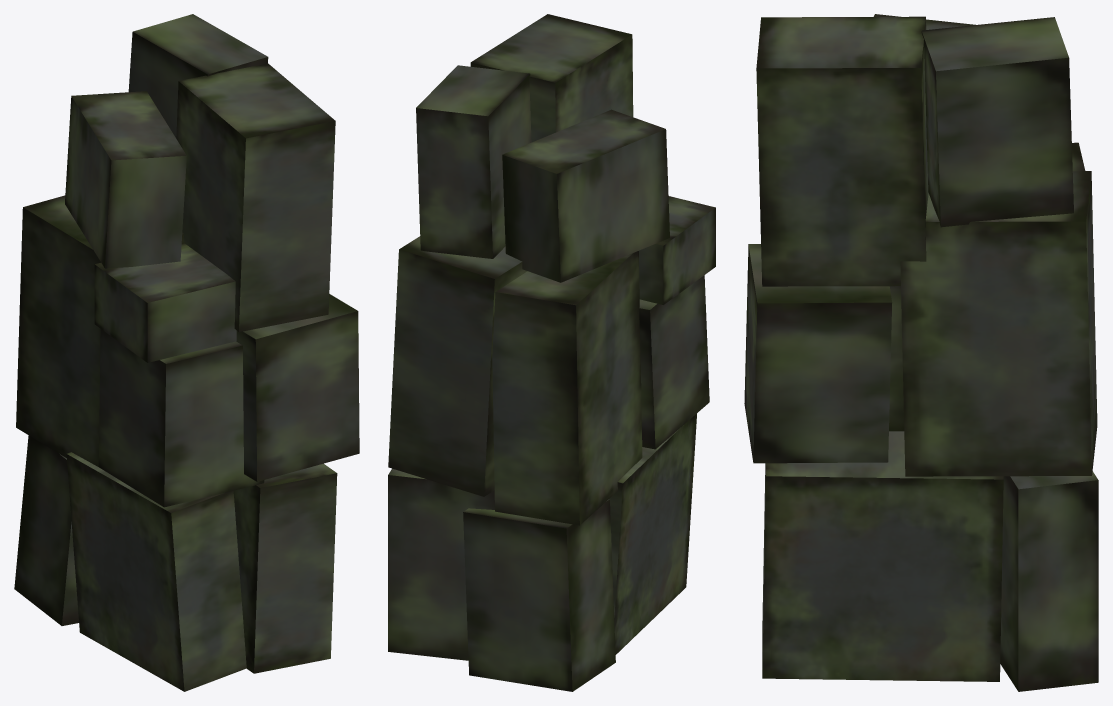
Rendered from ruin-pillar-02.fbx.
The picture shows the model from 3 angles, left to right: view 1: azimuth 30°, elevation 25°; view 2: azimuth 150°, elevation 25°; view 3: azimuth 270°, elevation 25°; orthographic projection. The views are drawn at different scales.
Visible parts, largest first — view 1: pillar_02; view 2: pillar_02; view 3: pillar_02.
Boxes of the visible parts, x1,y1,x2,y2 form: pillar_02: [14, 14, 359, 691]; pillar_02: [388, 14, 715, 691]; pillar_02: [744, 14, 1098, 691].
Bounding box in the file's own units: 152 × 392 × 199.
